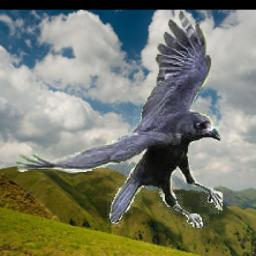Crow: (15, 10, 221, 228)
